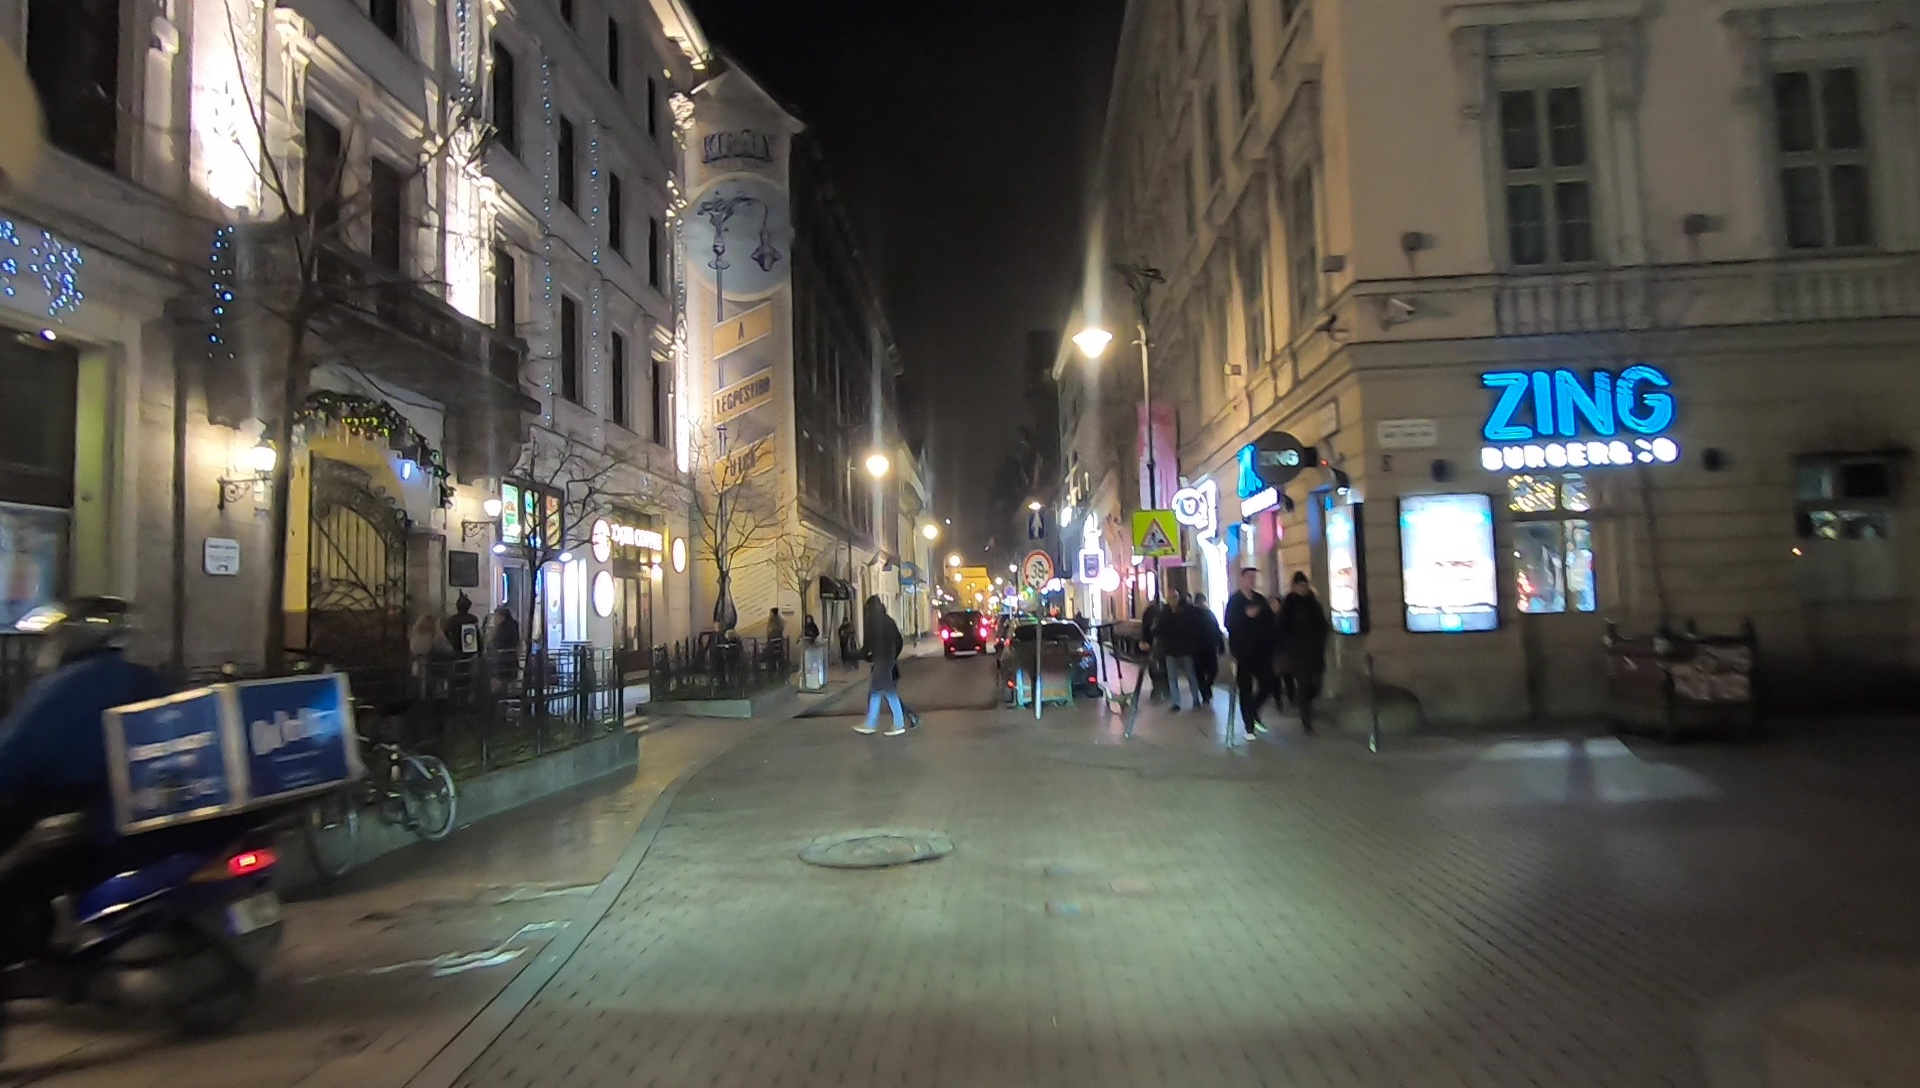person: (1229, 566, 1284, 735), (856, 595, 915, 736), (1281, 572, 1331, 731), (1156, 585, 1197, 710), (405, 616, 453, 714), (1192, 589, 1228, 699), (488, 610, 519, 697)
